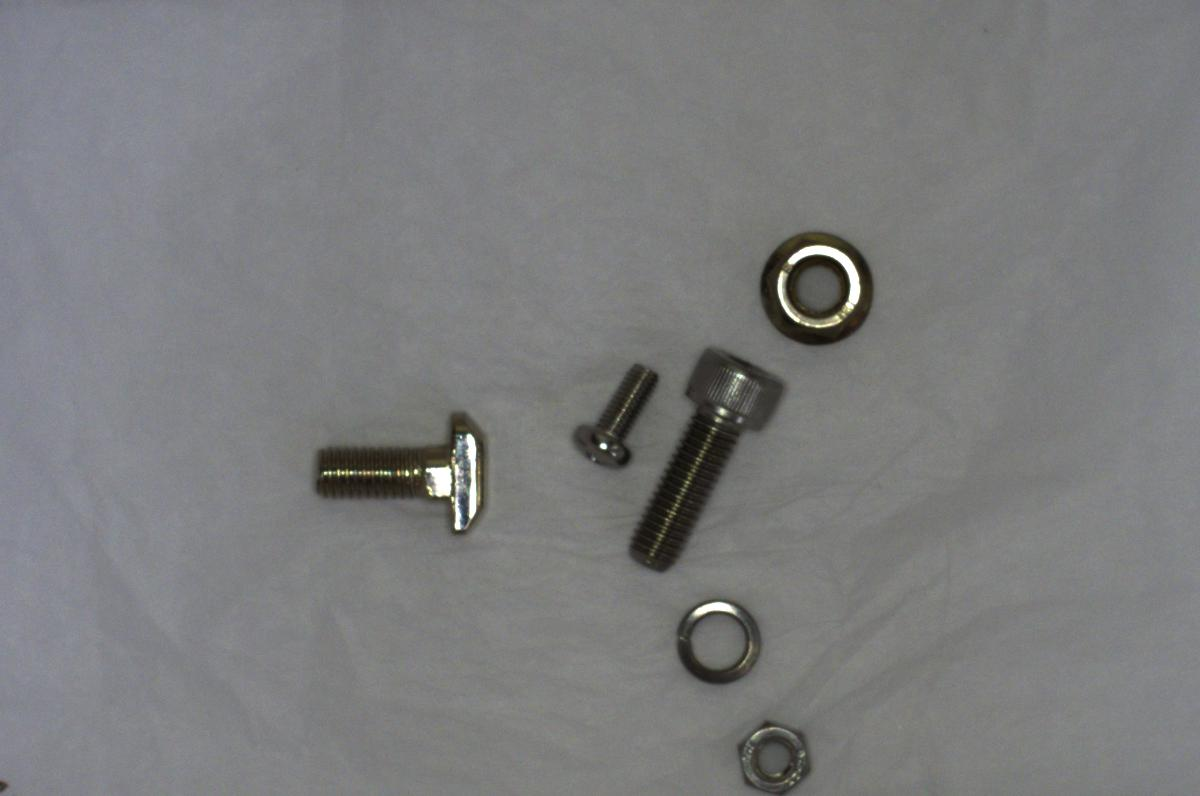Flange nut: (751, 219, 884, 353)
Hexagon nut: (720, 712, 823, 795)
Hexagon screw: (614, 341, 796, 576)
Round head screw: (548, 353, 669, 472)
Spring washer: (667, 591, 769, 691)
T-shaped screw: (293, 394, 502, 545)
